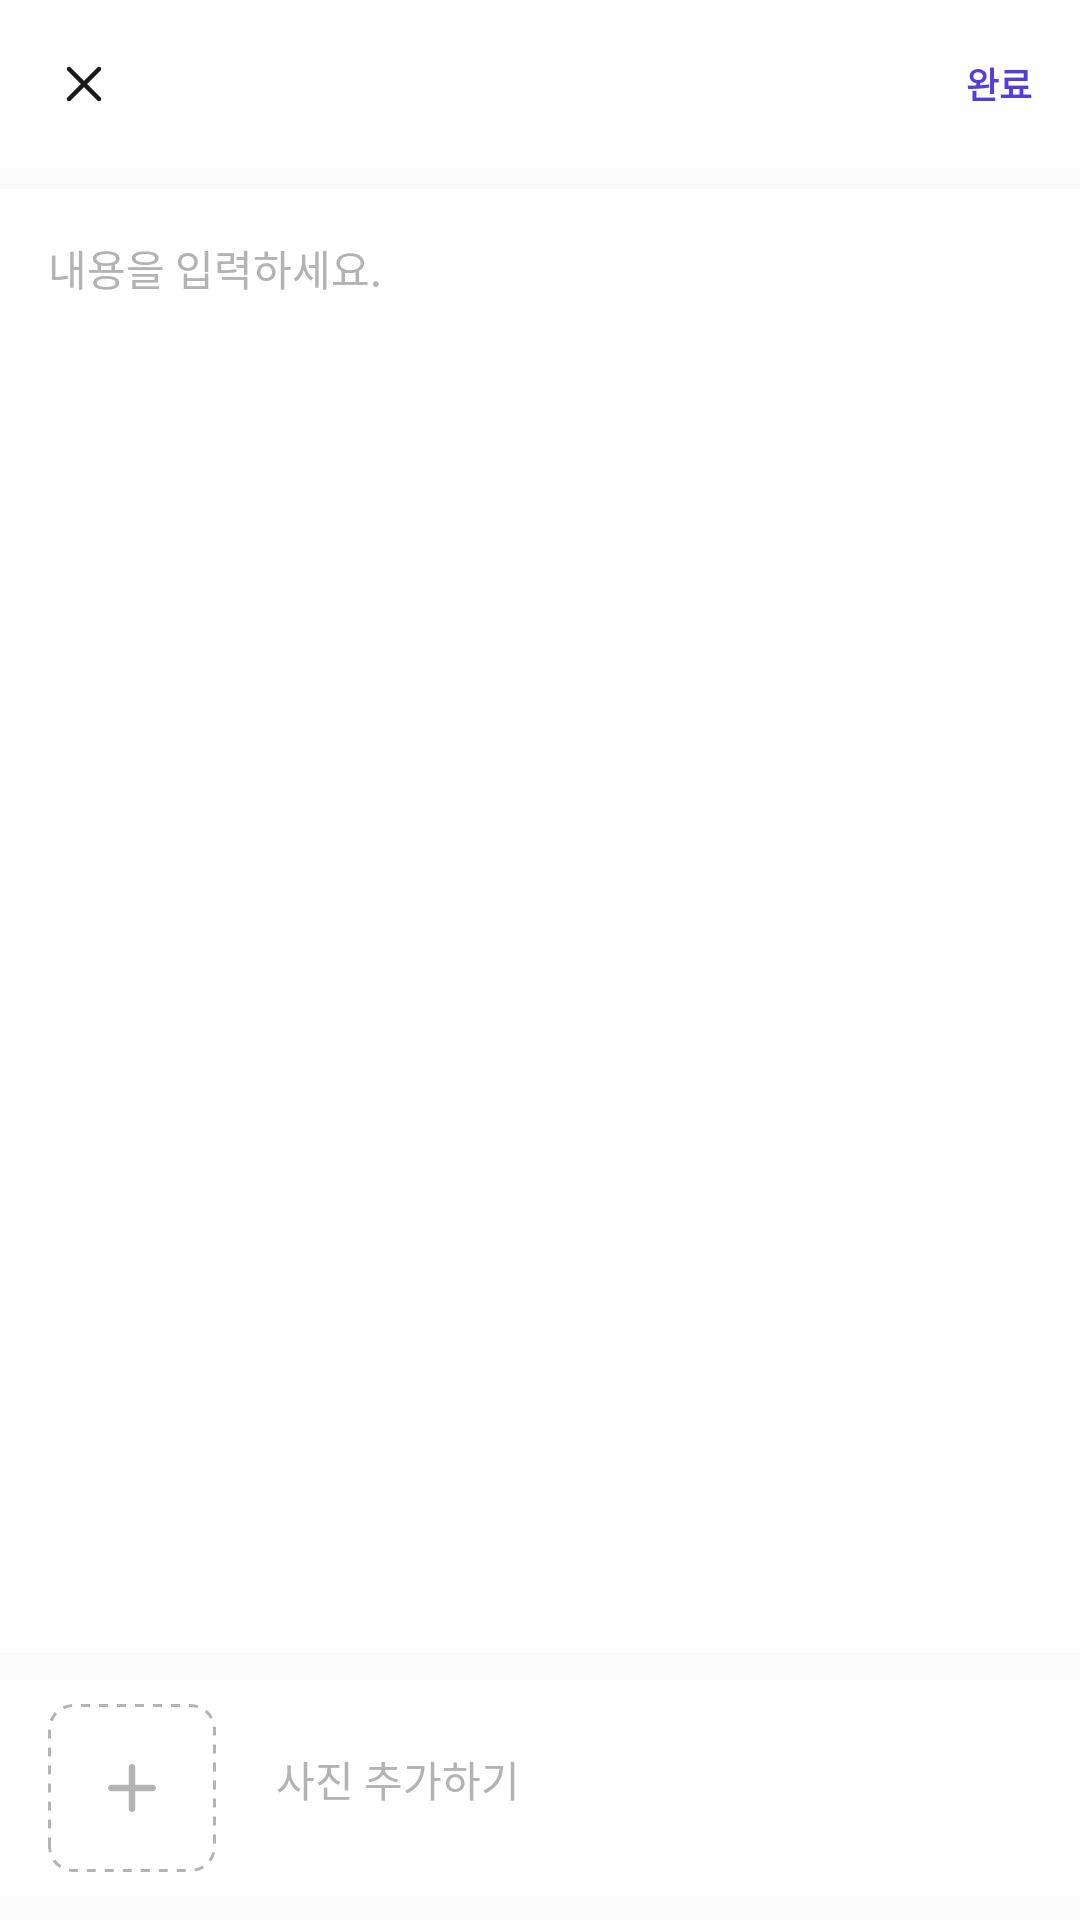

Screen size 1080×1920. Icon name, then its box in pixels as (x1, y1, x2, y2):
add: (48, 1704, 216, 1872)
cancel: (66, 66, 102, 102)
